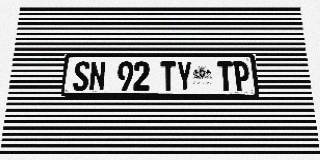2: (133, 61, 149, 91)
9: (117, 61, 134, 91)
N: (89, 61, 106, 91)
P: (233, 61, 250, 91)
S: (72, 61, 90, 91)
T: (217, 61, 234, 91), (161, 61, 176, 91)
Y: (176, 61, 192, 91)
